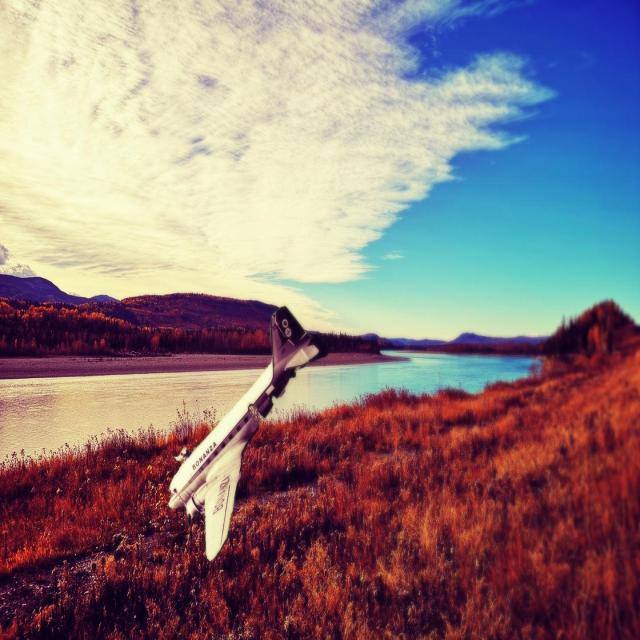airplane: (167, 304, 321, 561)
